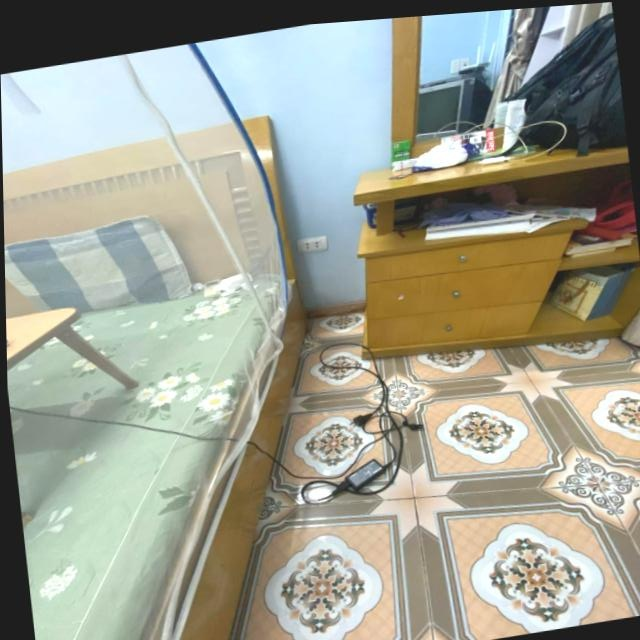outlet: (298, 233, 329, 255)
